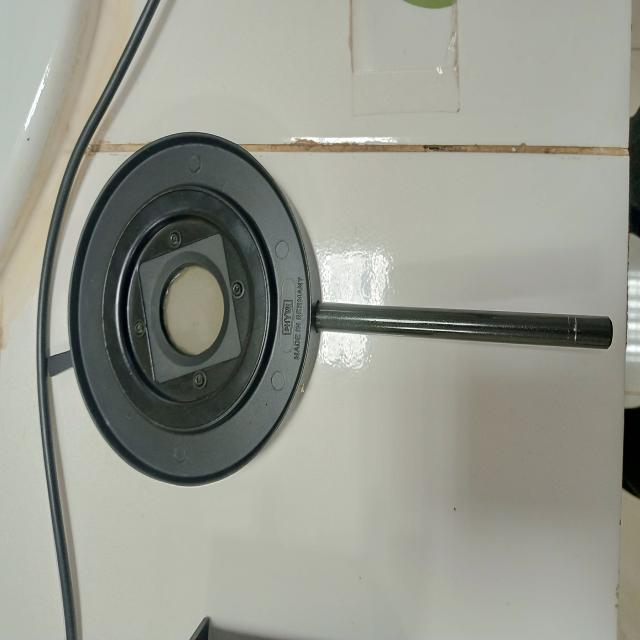Optical Polarizer: (47, 116, 624, 515)
